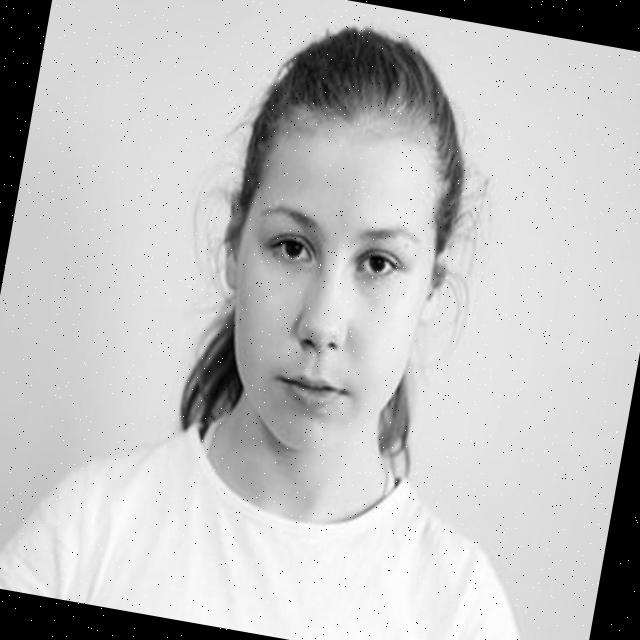Neutral: (207, 120, 451, 467)
